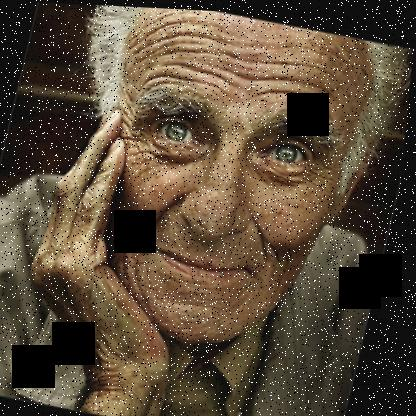Male: (64, 4, 378, 355)
